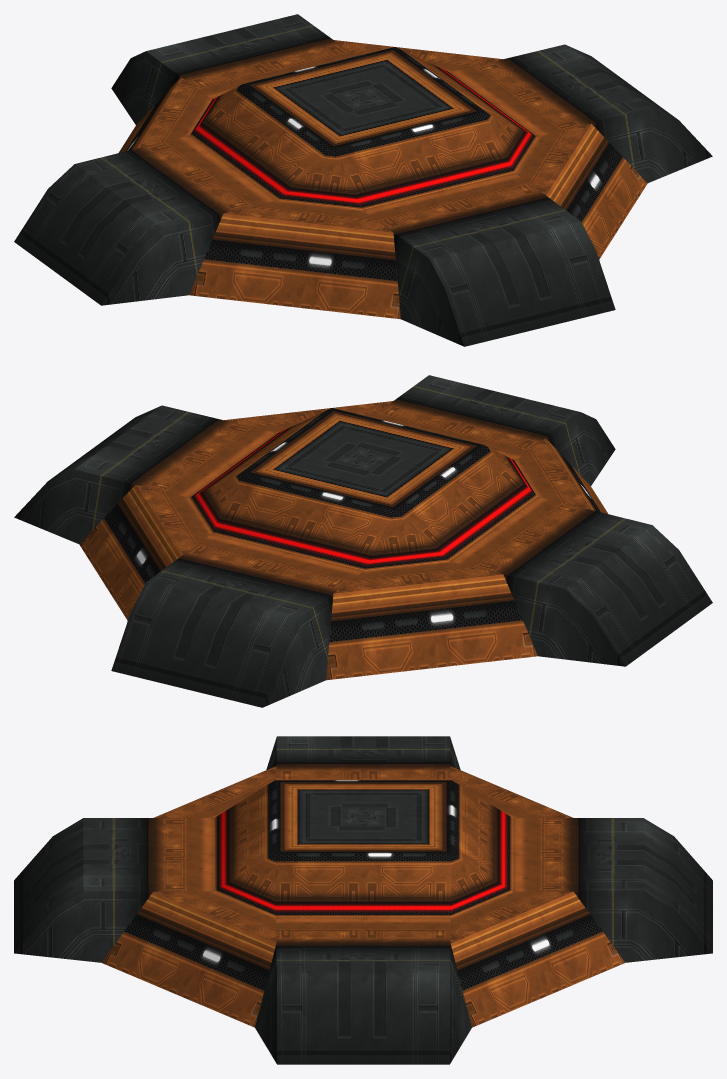
File: igmits00.FBX
3 views of the same model, one above another, from view 1: azimuth 30°, elevation 25°; view 2: azimuth 150°, elevation 25°; view 3: azimuth 270°, elevation 25° (orthographic).
Parts seen in each view (by area): view 1: igmits00; view 2: igmits00; view 3: igmits00.
Part boxes in pixels (x1,y1,x2,y2): igmits00: (14, 14, 712, 346); igmits00: (14, 375, 712, 707); igmits00: (14, 736, 712, 1064).
Size of what is drawn, in the model's own units: 1.85 by 1.85 by 0.4244.
